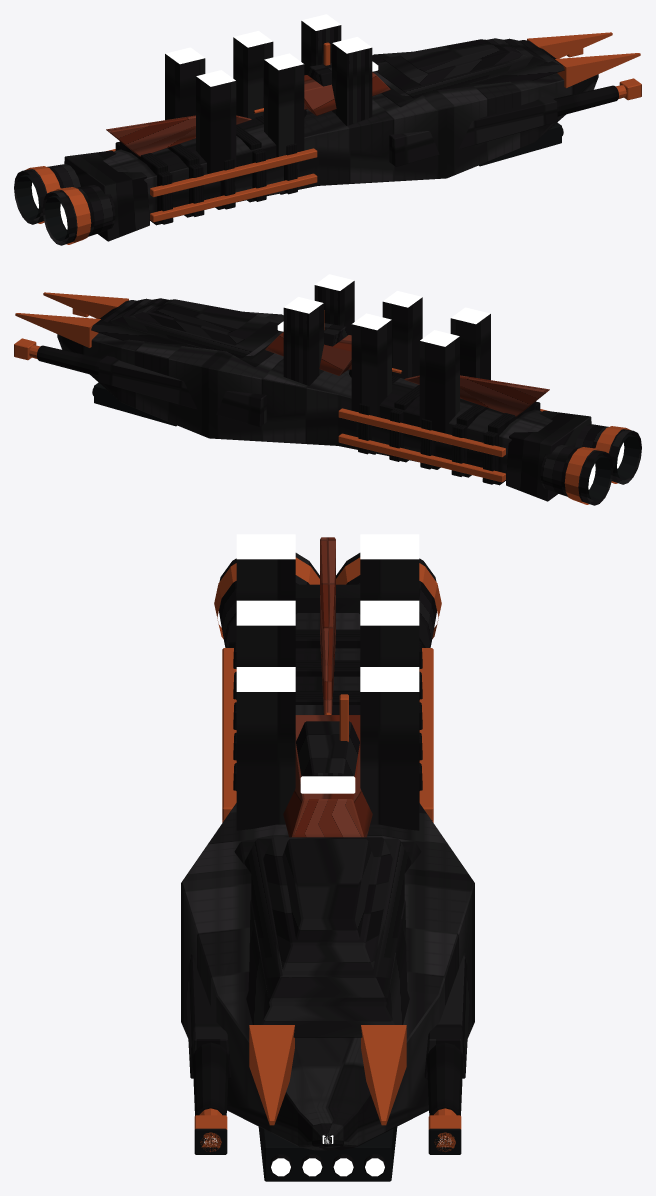
File: destroyer.glb
3 renders of one model, top to bottom at view 1: azimuth 30°, elevation 25°; view 2: azimuth 150°, elevation 25°; view 3: azimuth 270°, elevation 25°, orthographic. The views are drawn at different scales.
Visible parts, largest first — view 1: destroyer; view 2: destroyer; view 3: destroyer.
Part boxes in pixels (box(x1,y1,x2,y2)): destroyer: box(14, 14, 641, 245); destroyer: box(14, 274, 641, 505); destroyer: box(181, 534, 474, 1181).
Size of the model in its own units: 30 by 7.37 by 6.54.
1 material, 1 textured.
